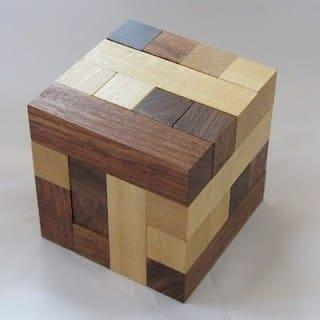cubos: (19, 14, 289, 307)
